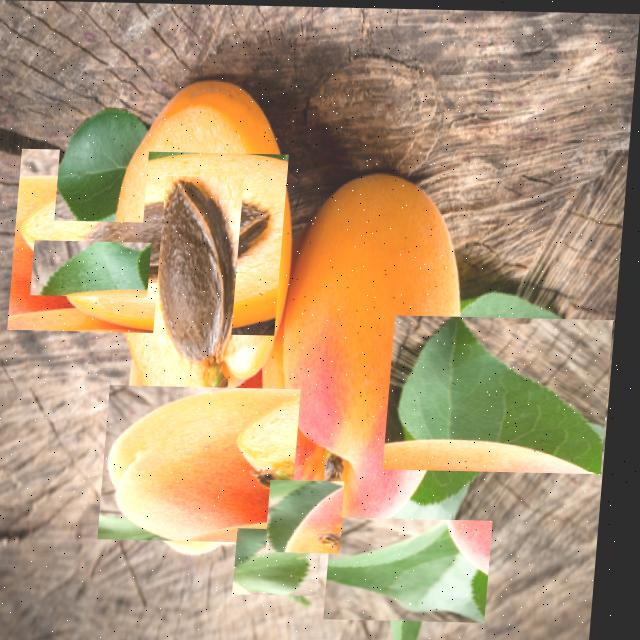Apricot: (267, 107, 489, 541), (60, 100, 358, 385), (112, 388, 308, 541)
Leaf: (396, 315, 611, 468), (338, 517, 495, 621), (61, 111, 153, 220), (36, 242, 152, 294), (243, 529, 331, 593), (277, 480, 352, 550)
seed: (165, 177, 241, 357)
